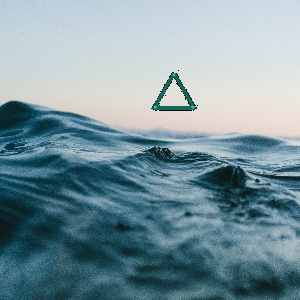triangle: (147, 70, 200, 114)
